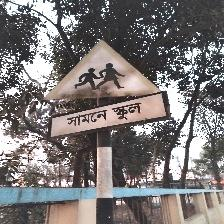School-in-front: (42, 39, 170, 141)
